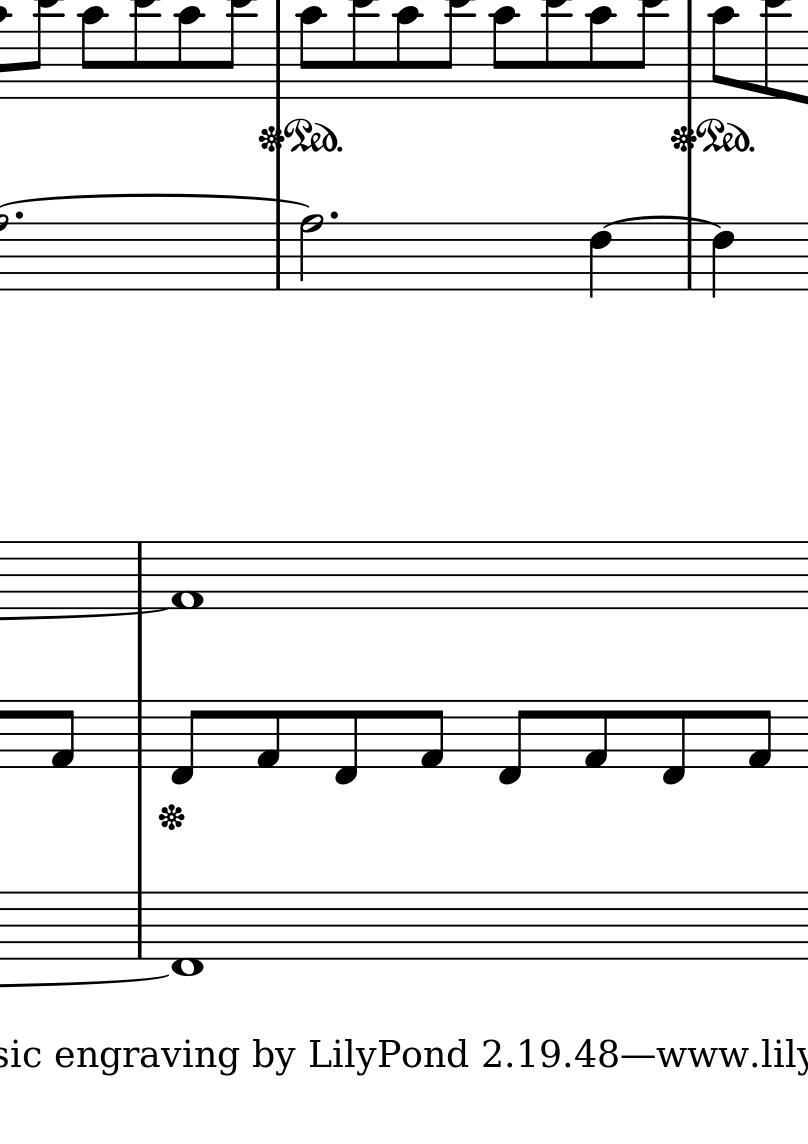1_-1: (170, 888, 203, 981)
1_1: (170, 538, 205, 615)
2_8: (298, 213, 325, 292)
4_6: (711, 221, 737, 299), (588, 221, 613, 299)
8_-1: (495, 698, 532, 788), (168, 697, 204, 788), (659, 697, 689, 788), (332, 699, 361, 787)
8_1: (582, 698, 610, 771), (49, 699, 77, 770), (255, 698, 282, 770), (419, 698, 446, 770), (746, 699, 773, 770)
Single_barline: (269, 31, 288, 99), (270, 222, 289, 289), (131, 700, 150, 767), (681, 30, 699, 99), (131, 541, 149, 608), (682, 227, 701, 290), (131, 893, 149, 959)
Slur: (1, 192, 312, 208), (606, 214, 723, 229)
dot: (327, 208, 341, 223), (13, 209, 26, 222)
